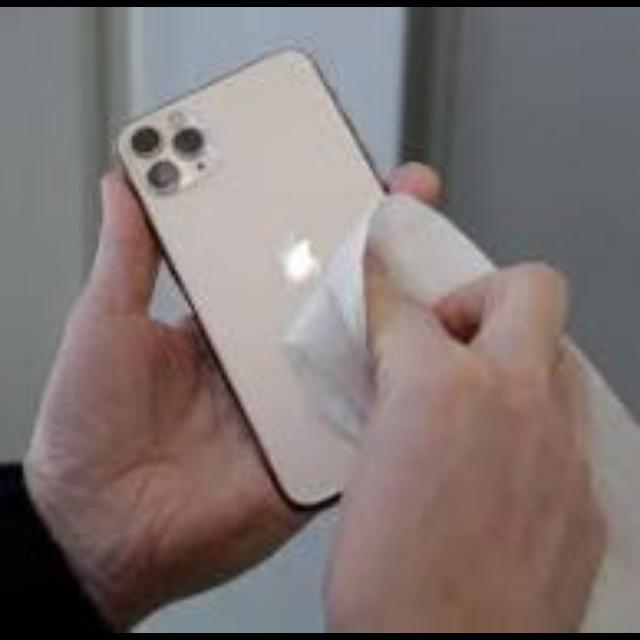phone: (67, 55, 535, 535)
